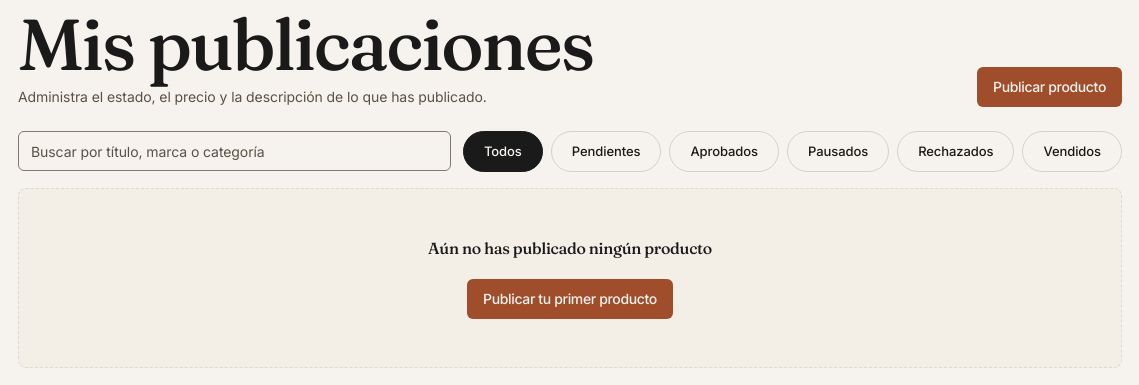
Scenario: MisProductosPage › distingue 'sin publicaciones' de 'sin resultados para la búsqueda'
Check: the heading "Aún no has publicado ningún producto" is shown, box [428,237,712,260]
Step 1. Type "algo que no existe" into the search field named "buscar publicaciones" → (234,151), box [18,131,451,171]
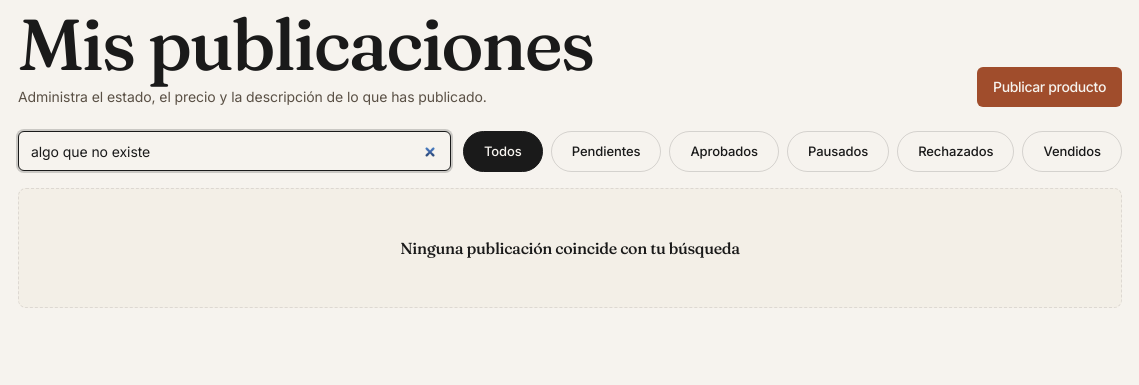
Check: the heading "Ninguna publicación coincide con tu búsqueda" is shown, box [400,237,740,260]
Check: the heading "Aún no has publicado ningún producto" is gone
Check: the button "Publicar tu primer producto" is gone
